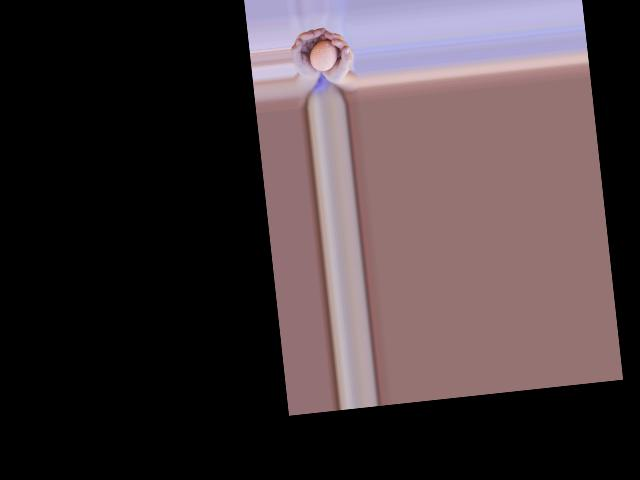egg: (307, 39, 338, 72)
